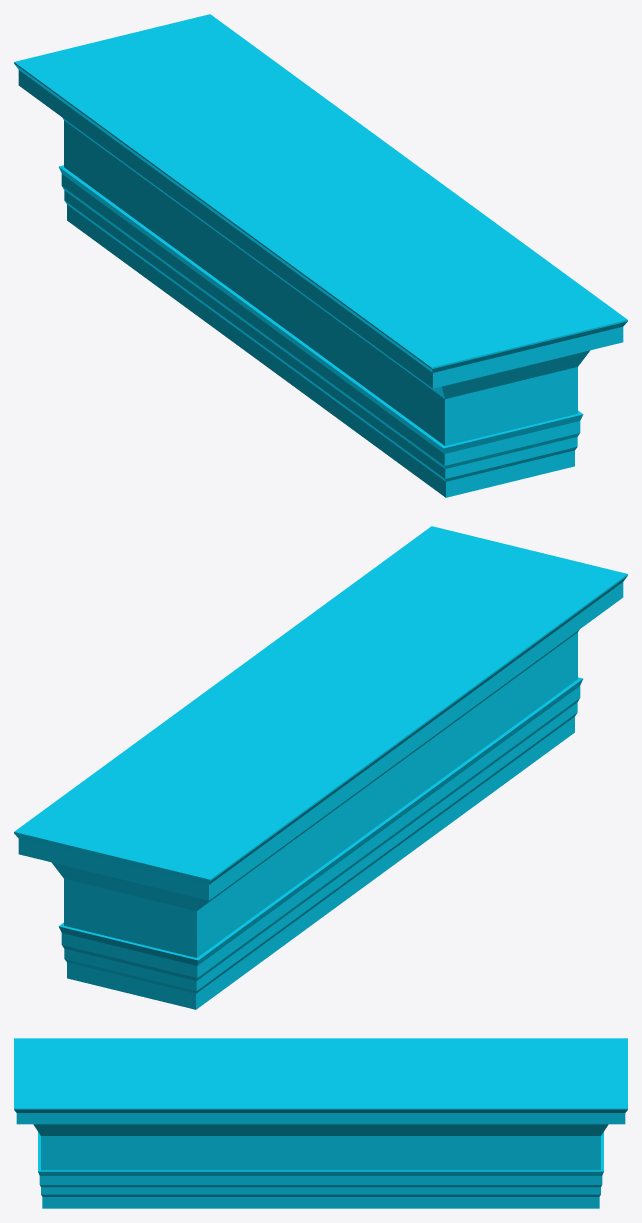
File: Ceiling_PA.FBX
The picture shows the model from 3 angles, top to bottom: view 1: azimuth 30°, elevation 25°; view 2: azimuth 150°, elevation 25°; view 3: azimuth 270°, elevation 25°; orthographic projection. The views are drawn at different scales.
Parts seen in each view (by area): view 1: Box016; view 2: Box016; view 3: Box016.
Part boxes in pixels (x1,y1,x2,y2): Box016: (14, 14, 627, 497); Box016: (14, 526, 627, 1009); Box016: (14, 1038, 627, 1208).
Bounding box in the file's own units: 763 × 566 × 2812.
